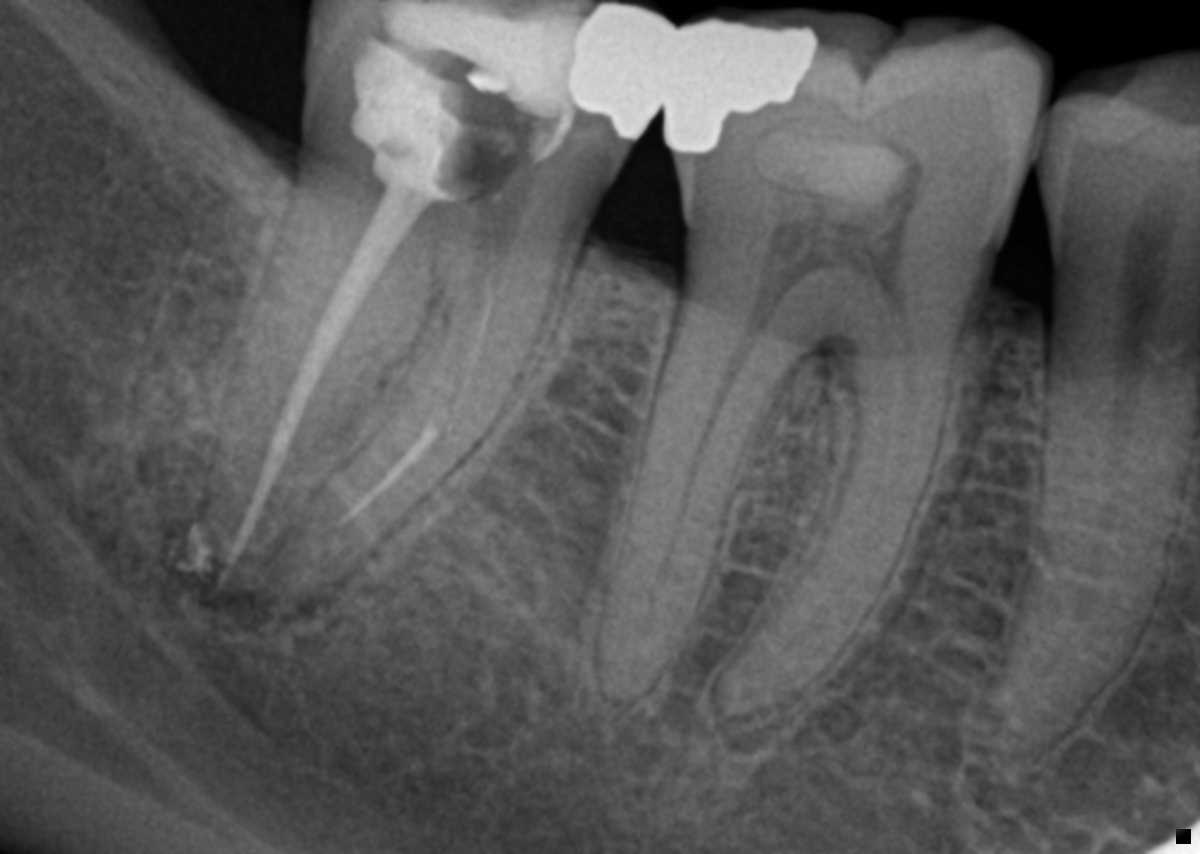Apical Lesion: (161, 527, 278, 632)
Distal Canal: (631, 329, 761, 673)
Distal Root: (204, 191, 445, 580), (594, 303, 804, 701)
Main Canal: (999, 345, 1142, 716)
Main Root: (984, 324, 1200, 763)
Mesial Root: (261, 236, 572, 606), (709, 342, 950, 715)
